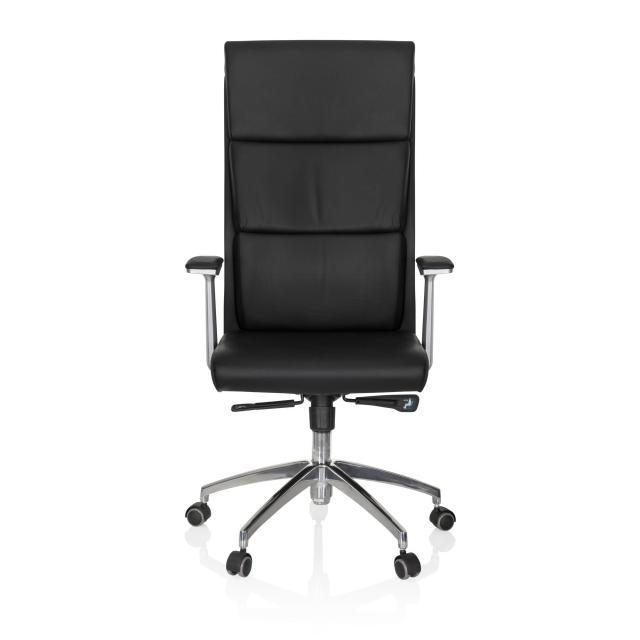chair: (184, 39, 457, 581)
